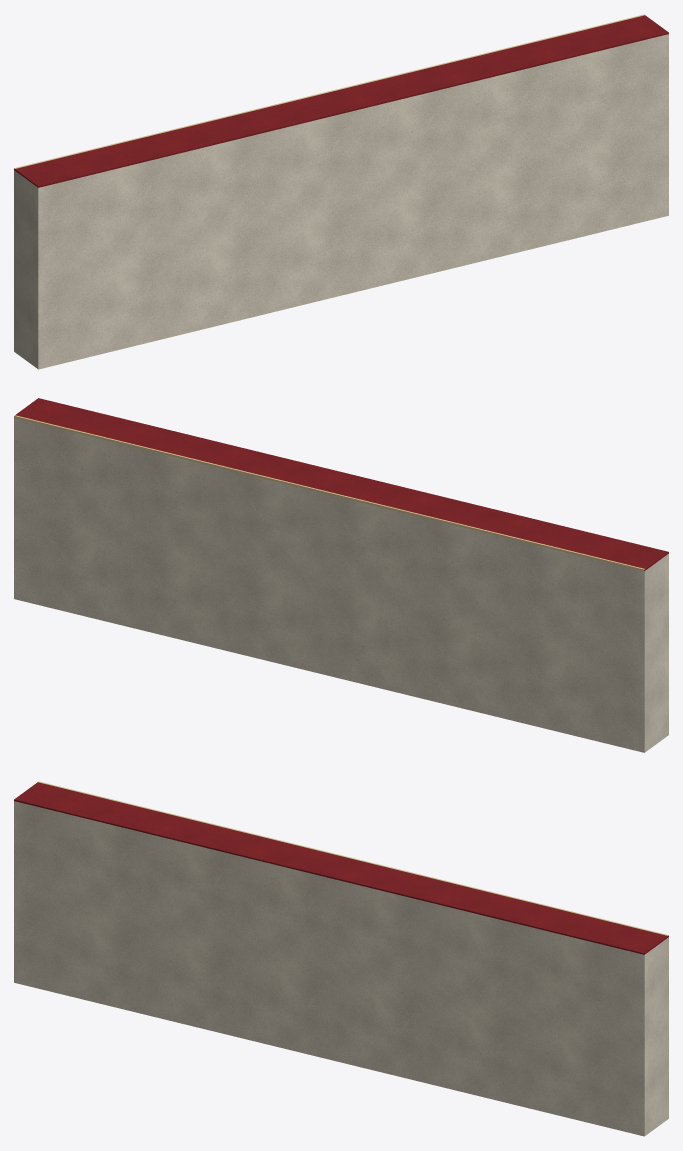
Rendered from tier_06.glb.
3 views of the same model, one above another, from view 1: azimuth 30°, elevation 25°; view 2: azimuth 150°, elevation 25°; view 3: azimuth 330°, elevation 25° (orthographic).
Parts seen in each view (by area): view 1: tier_06_trim, tier_06_carpet, tier_06_gold; view 2: tier_06_trim, tier_06_carpet, tier_06_gold; view 3: tier_06_trim, tier_06_carpet, tier_06_gold.
Part boxes in pixels (x1,y1,x2,y2): tier_06_trim: (14,34,668,369); tier_06_carpet: (14,15,668,187); tier_06_gold: (14,14,644,168); tier_06_trim: (14,418,668,752); tier_06_carpet: (15,398,668,570); tier_06_gold: (14,415,644,571); tier_06_trim: (14,801,668,1136); tier_06_carpet: (14,782,668,954); tier_06_gold: (38,781,668,935).
Bounding box in the file's own units: 13.4 × 3.72 × 0.905.
3 materials, 2 textured.
